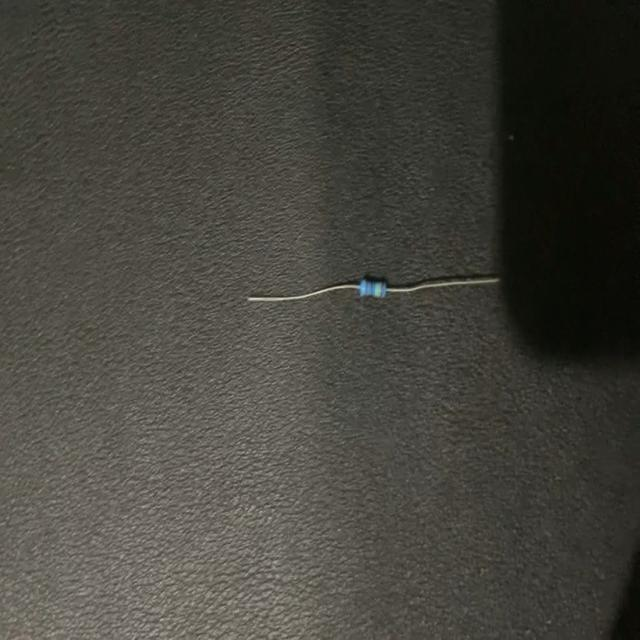resistor: (243, 263, 505, 321)
